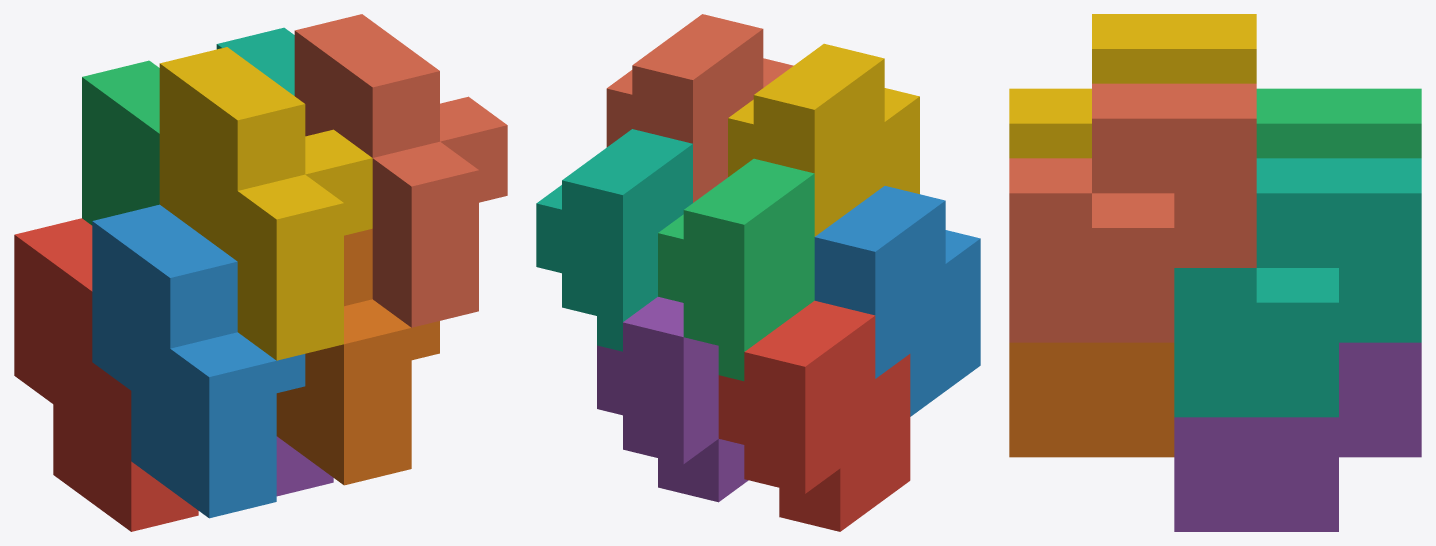
File: tiling.obj
3 renders of one model, left to right at view 1: azimuth 30°, elevation 25°; view 2: azimuth 150°, elevation 25°; view 3: azimuth 270°, elevation 25°, orthographic. The views are drawn at different scales.
Visible parts, largest first — view 1: copy_1_domain_4, copy_1_domain_2, copy_1_domain_8, copy_1_domain_1, copy_1_domain_6, copy_1_domain_3, copy_1_domain_7, copy_1_domain_5; view 2: copy_1_domain_1, copy_1_domain_2, copy_1_domain_3, copy_1_domain_4, copy_1_domain_7, copy_1_domain_5, copy_1_domain_8; view 3: copy_1_domain_8, copy_1_domain_7, copy_1_domain_5, copy_1_domain_6, copy_1_domain_4, copy_1_domain_3.
Boxes of the visible parts, box(x1,y1,x2,y2) form: copy_1_domain_4: box(159, 47, 372, 360); copy_1_domain_2: box(92, 204, 305, 518); copy_1_domain_8: box(294, 14, 507, 327); copy_1_domain_1: box(14, 218, 198, 531); copy_1_domain_6: box(276, 228, 439, 485); copy_1_domain_3: box(82, 60, 159, 225); copy_1_domain_7: box(216, 27, 294, 95); copy_1_domain_5: box(276, 436, 333, 496); copy_1_domain_1: box(718, 300, 910, 531); copy_1_domain_2: box(814, 186, 980, 416); copy_1_domain_3: box(658, 158, 814, 381); copy_1_domain_4: box(728, 43, 919, 236); copy_1_domain_7: box(536, 129, 692, 351); copy_1_domain_5: box(597, 297, 748, 502); copy_1_domain_8: box(606, 14, 793, 202); copy_1_domain_8: box(1009, 83, 1256, 342); copy_1_domain_7: box(1174, 158, 1421, 417); copy_1_domain_5: box(1174, 342, 1421, 531); copy_1_domain_6: box(1009, 342, 1174, 457); copy_1_domain_4: box(1009, 14, 1256, 158); copy_1_domain_3: box(1256, 88, 1421, 158).
Size of the model in its own units: 5 by 6 by 5.
